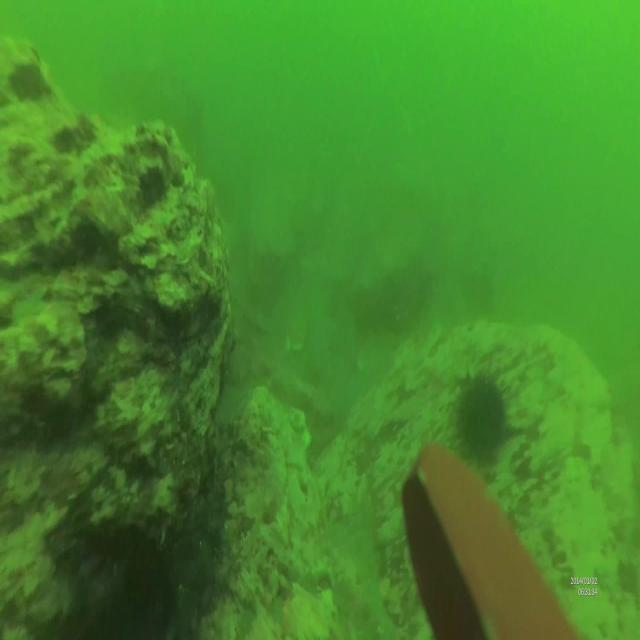echinus: (445, 360, 513, 465)
